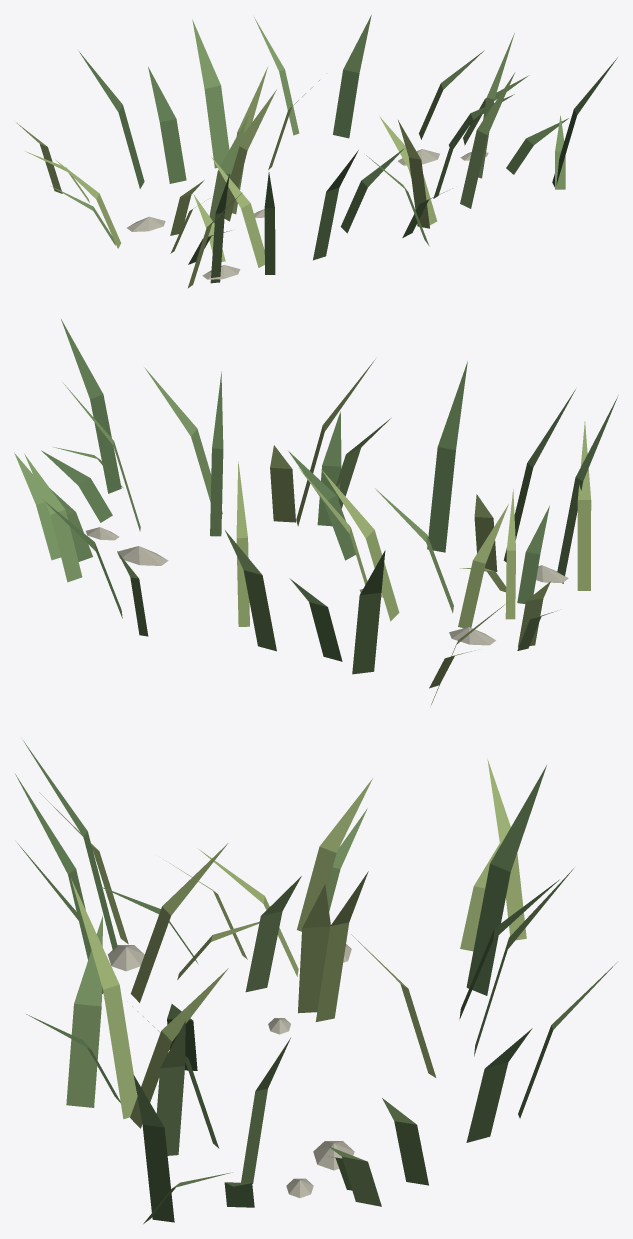
Rendered from verge.glb.
The picture shows the model from 3 angles, top to bottom: view 1: azimuth 30°, elevation 25°; view 2: azimuth 150°, elevation 25°; view 3: azimuth 270°, elevation 25°; orthographic projection. The views are drawn at different scales.
Visible parts, largest first — view 1: RoadVerge; view 2: RoadVerge; view 3: RoadVerge.
Part boxes in pixels (x1,y1,x2,y2): RoadVerge: (16,15,617,288); RoadVerge: (14,319,618,704); RoadVerge: (15,740,617,1223).
Size of the model in its own units: 2.05 by 0.5428 by 1.43.
